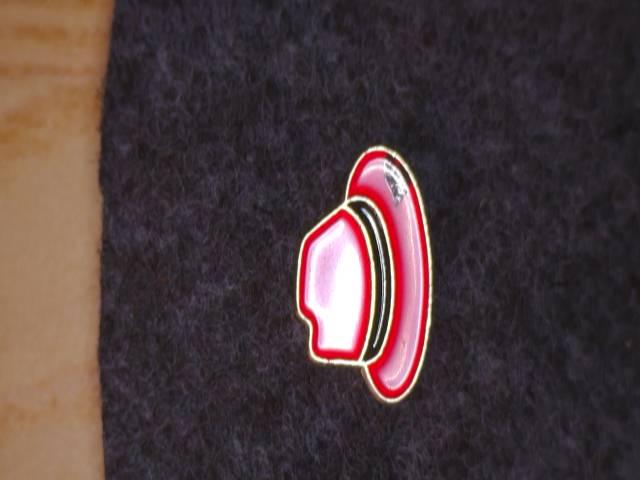Red-Hat: (275, 121, 468, 413)
Scratch: (368, 131, 426, 219)
